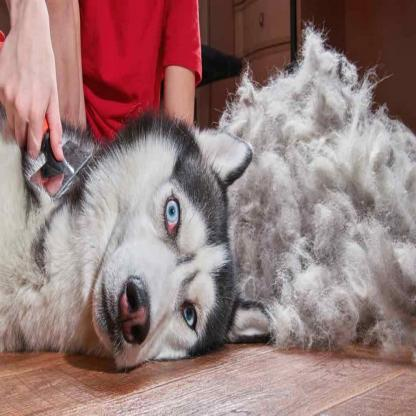dog: (0, 102, 267, 366)
